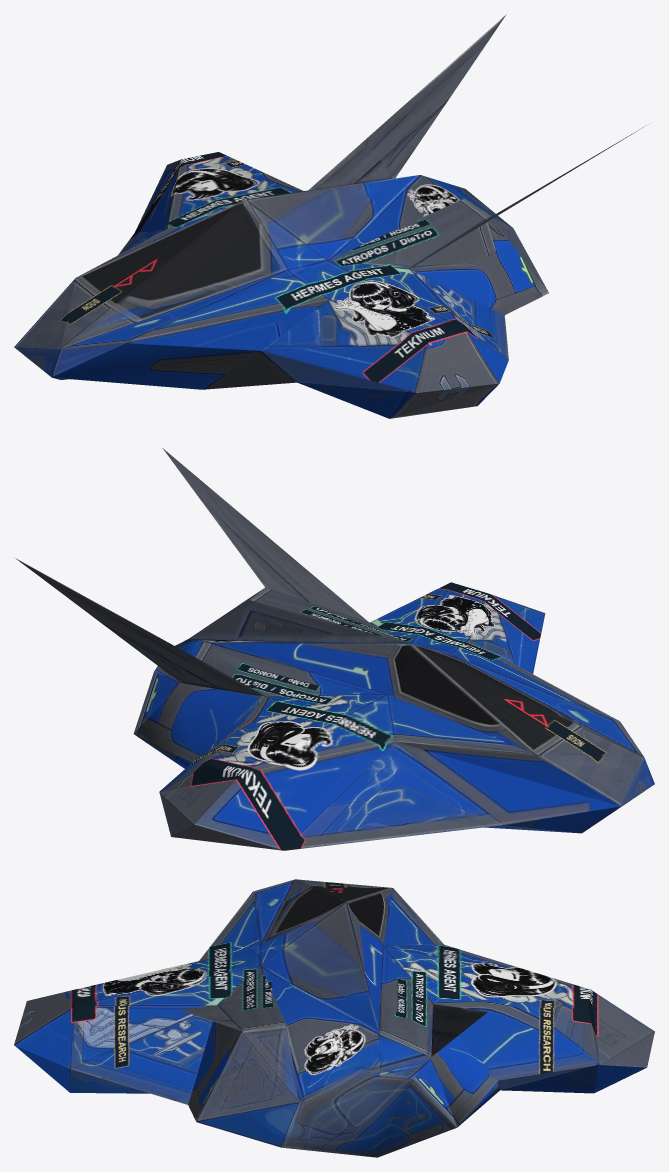
File: car.glb
3 views of the same model, one above another, from view 1: azimuth 30°, elevation 25°; view 2: azimuth 150°, elevation 25°; view 3: azimuth 270°, elevation 25° (orthographic). The views are drawn at different scales.
Visible parts, largest first — view 1: Meshy_FZero_Caduceus_106Tris_Mesh_0; view 2: Meshy_FZero_Caduceus_106Tris_Mesh_0; view 3: Meshy_FZero_Caduceus_106Tris_Mesh_0.
Part boxes in pixels (box(x1,y1,x2,y2)): Meshy_FZero_Caduceus_106Tris_Mesh_0: box(14, 14, 648, 418); Meshy_FZero_Caduceus_106Tris_Mesh_0: box(15, 448, 654, 850); Meshy_FZero_Caduceus_106Tris_Mesh_0: box(14, 879, 654, 1157).
Size of the model in its own units: 2 by 0.7158 by 1.93.
1 material, 1 textured.
